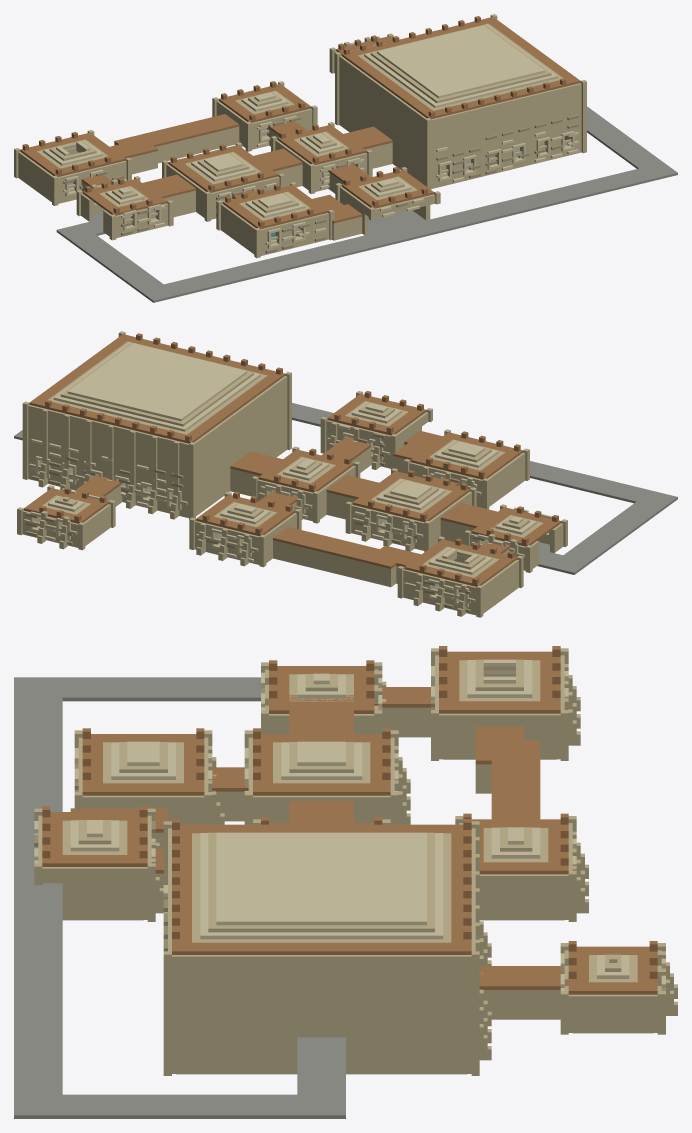
Rendered from forgotten_monastery.glb.
The picture shows the model from 3 angles, top to bottom: view 1: azimuth 30°, elevation 25°; view 2: azimuth 150°, elevation 25°; view 3: azimuth 270°, elevation 25°; orthographic projection. The views are drawn at different scales.
Parts seen in each view (by area): view 1: forgotten_monastery/room_walls, forgotten_monastery/floor_mesh, forgotten_monastery/roof_arena, forgotten_monastery/exterior_details, forgotten_monastery/corridor_walls, forgotten_monastery/roof_workshop, forgotten_monastery/roof_cistern, forgotten_monastery/roof_production, forgotten_monastery/roof_votive_chapel, forgotten_monastery/roof_pilgrim_hall, forgotten_monastery/roof_antechamber, forgotten_monastery/roof_entrance (+7 smaller); view 2: forgotten_monastery/room_walls, forgotten_monastery/exterior_details, forgotten_monastery/roof_arena, forgotten_monastery/floor_mesh, forgotten_monastery/corridor_walls, forgotten_monastery/roof_workshop, forgotten_monastery/roof_cistern, forgotten_monastery/roof_production, forgotten_monastery/roof_votive_chapel, forgotten_monastery/roof_pilgrim_hall, forgotten_monastery/roof_antechamber, forgotten_monastery/roof_entrance (+8 smaller); view 3: forgotten_monastery/room_walls, forgotten_monastery/roof_arena, forgotten_monastery/floor_mesh, forgotten_monastery/exterior_details, forgotten_monastery/roof_workshop, forgotten_monastery/roof_production, forgotten_monastery/roof_cistern, forgotten_monastery/roof_votive_chapel, forgotten_monastery/roof_pilgrim_hall, forgotten_monastery/corridor_walls, forgotten_monastery/roof_entrance, forgotten_monastery/roof_archive (+8 smaller).
Boxes of the visible parts, x1,y1,x2,y2 form: forgotten_monastery/room_walls: (18,51,581,255); forgotten_monastery/floor_mesh: (56,106,677,302); forgotten_monastery/roof_arena: (341,16,580,119); forgotten_monastery/exterior_details: (14,14,586,258); forgotten_monastery/corridor_walls: (81,126,392,240); forgotten_monastery/roof_workshop: (168,144,278,192); forgotten_monastery/roof_cistern: (223,184,327,229); forgotten_monastery/roof_production: (20,132,125,176); forgotten_monastery/roof_votive_chapel: (342,167,433,208); forgotten_monastery/roof_pilgrim_hall: (219,81,310,122); forgotten_monastery/roof_antechamber: (277,124,365,164); forgotten_monastery/roof_entrance: (83,178,166,215); forgotten_monastery/room_walls: (22,376,563,615); forgotten_monastery/exterior_details: (17,331,567,617); forgotten_monastery/roof_arena: (29,333,284,443); forgotten_monastery/floor_mesh: (14,403,677,594); forgotten_monastery/corridor_walls: (105,444,508,587); forgotten_monastery/roof_workshop: (352,470,469,522); forgotten_monastery/roof_cistern: (410,431,522,479); forgotten_monastery/roof_production: (404,538,516,586); forgotten_monastery/roof_votive_chapel: (327,391,426,435); forgotten_monastery/roof_pilgrim_hall: (196,491,294,536); forgotten_monastery/roof_antechamber: (258,448,353,492); forgotten_monastery/roof_entrance: (471,506,561,546); forgotten_monastery/room_walls: (38,655,661,1073); forgotten_monastery/roof_arena: (172,819,471,954); forgotten_monastery/floor_mesh: (14,677,653,1118); forgotten_monastery/exterior_details: (34,648,677,1075); forgotten_monastery/roof_workshop: (253,728,390,795); forgotten_monastery/roof_production: (439,646,560,713); forgotten_monastery/roof_cistern: (82,728,204,795); forgotten_monastery/roof_votive_chapel: (42,806,147,866); forgotten_monastery/roof_pilgrim_hall: (463,813,568,874); forgotten_monastery/corridor_walls: (155,707,560,1019); forgotten_monastery/roof_entrance: (269,660,374,713); forgotten_monastery/roof_archive: (568,941,657,994).
Bounding box in the file's own units: 128 × 19.5 × 82.
